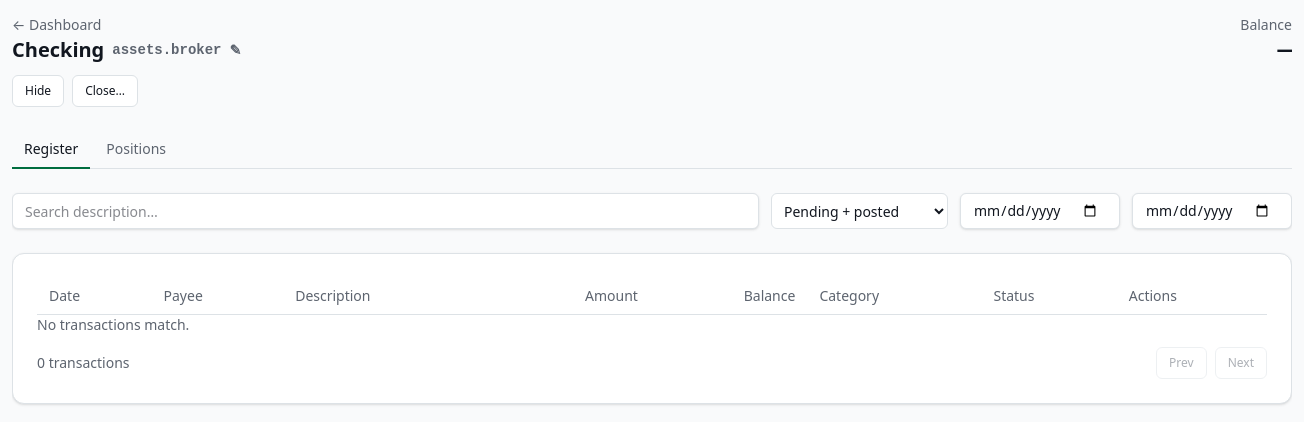
AccountRegister manual holdings (#390) › shows a Positions tab only for a brokerage account tracked by hand
The width and height of the screenshot is (1304, 422).
Click the tab "Positions" at (136, 150), box [94,131,178,169]
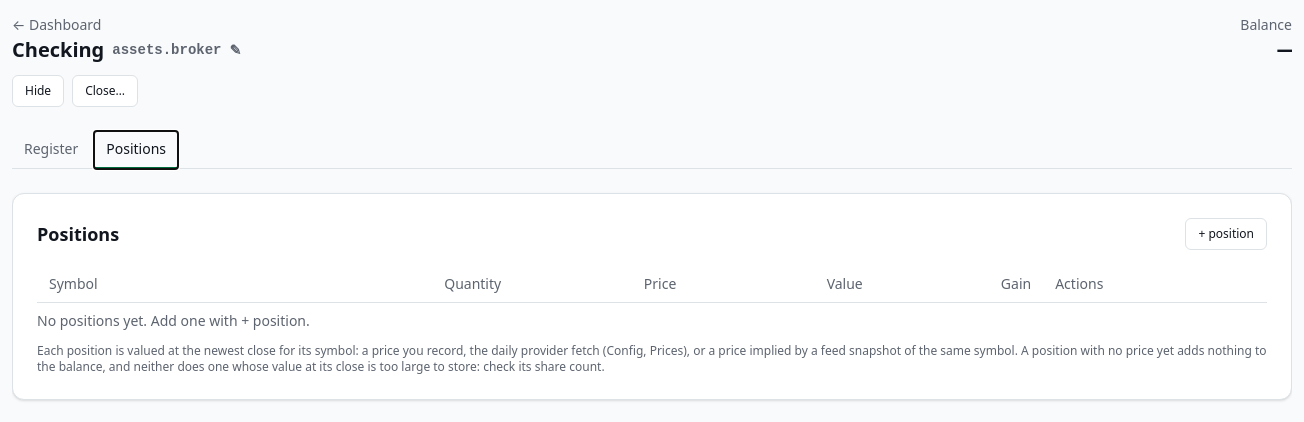
Check: the field with placeholder "Search description…" is not shown
Check: the text "No positions yet. Add one with + position." is shown, box [37,311,310,330]
